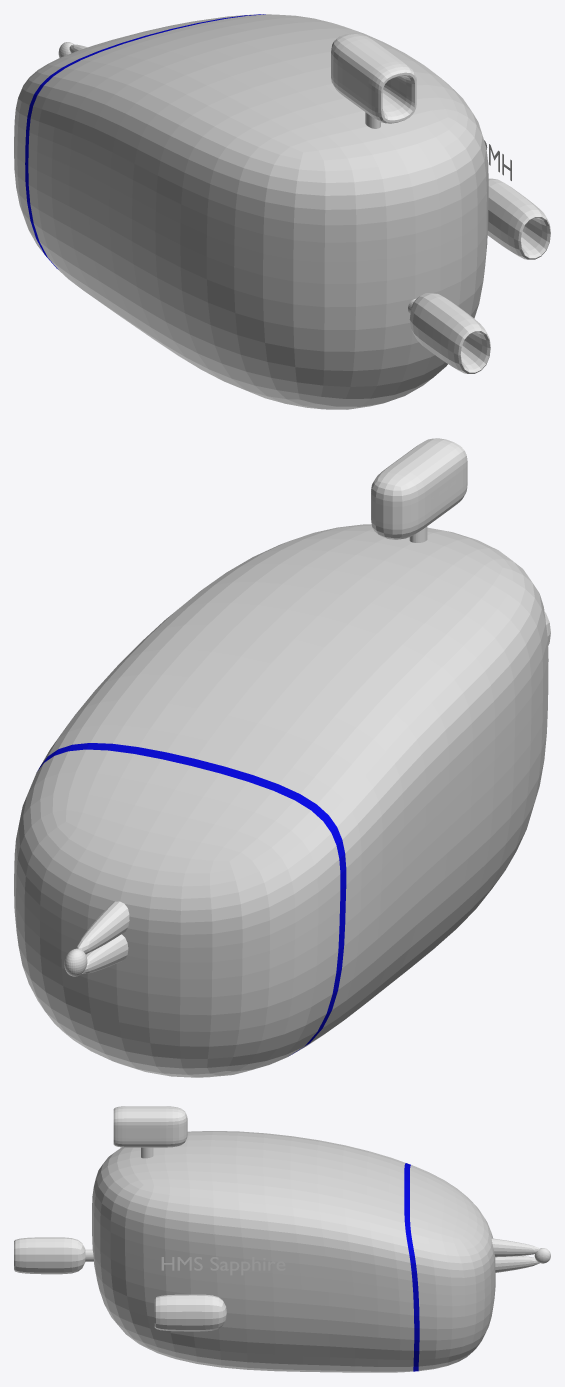
Rendered from SpaceShip.fbx.
3 renders of one model, top to bottom at view 1: azimuth 30°, elevation 25°; view 2: azimuth 150°, elevation 25°; view 3: azimuth 270°, elevation 25°, orthographic. The views are drawn at different scales.
Visible parts, largest first — view 1: Cube, Cube.002, Cube.001, Cube.003; view 2: Cube, Cube.002, Cube.004, Cube.005; view 3: Cube, Cube.002, Cube.003, Cube.001, Text, Cube.004, Cube.005.
Boxes of the visible parts, bbox=[...] form: Cube: bbox=[14, 14, 488, 409]; Cube.002: bbox=[331, 33, 416, 123]; Cube.001: bbox=[409, 293, 490, 373]; Cube.003: bbox=[487, 178, 550, 259]; Cube: bbox=[14, 524, 548, 1077]; Cube.002: bbox=[371, 438, 467, 539]; Cube.004: bbox=[76, 901, 129, 953]; Cube.005: bbox=[82, 934, 128, 973]; Cube: bbox=[92, 1131, 495, 1372]; Cube.002: bbox=[113, 1106, 187, 1147]; Cube.003: bbox=[154, 1294, 226, 1331]; Cube.001: bbox=[14, 1237, 85, 1274]; Text: bbox=[161, 1257, 285, 1275]; Cube.004: bbox=[491, 1238, 539, 1257]; Cube.005: bbox=[495, 1256, 539, 1272].
Size of the model in its own units: 208 by 230 by 448.
